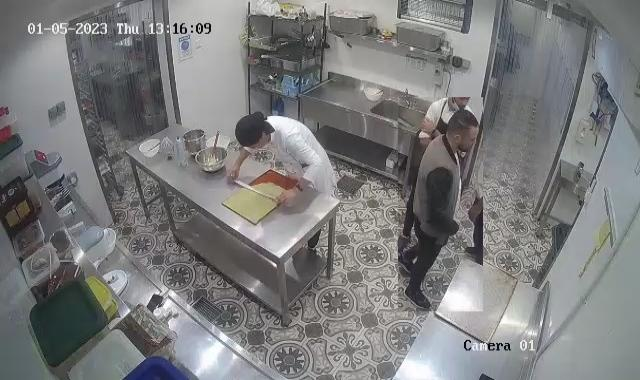no_hairnet: (446, 108, 478, 153), (234, 111, 264, 154)
